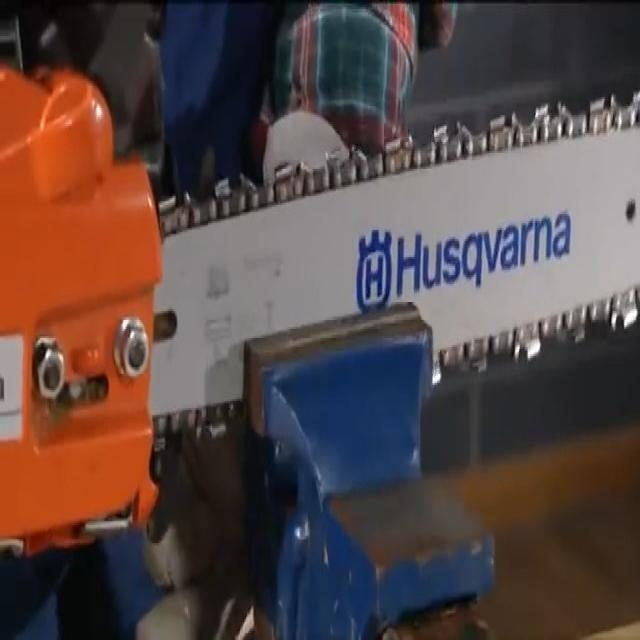Chainsaw: (0, 4, 637, 552)
